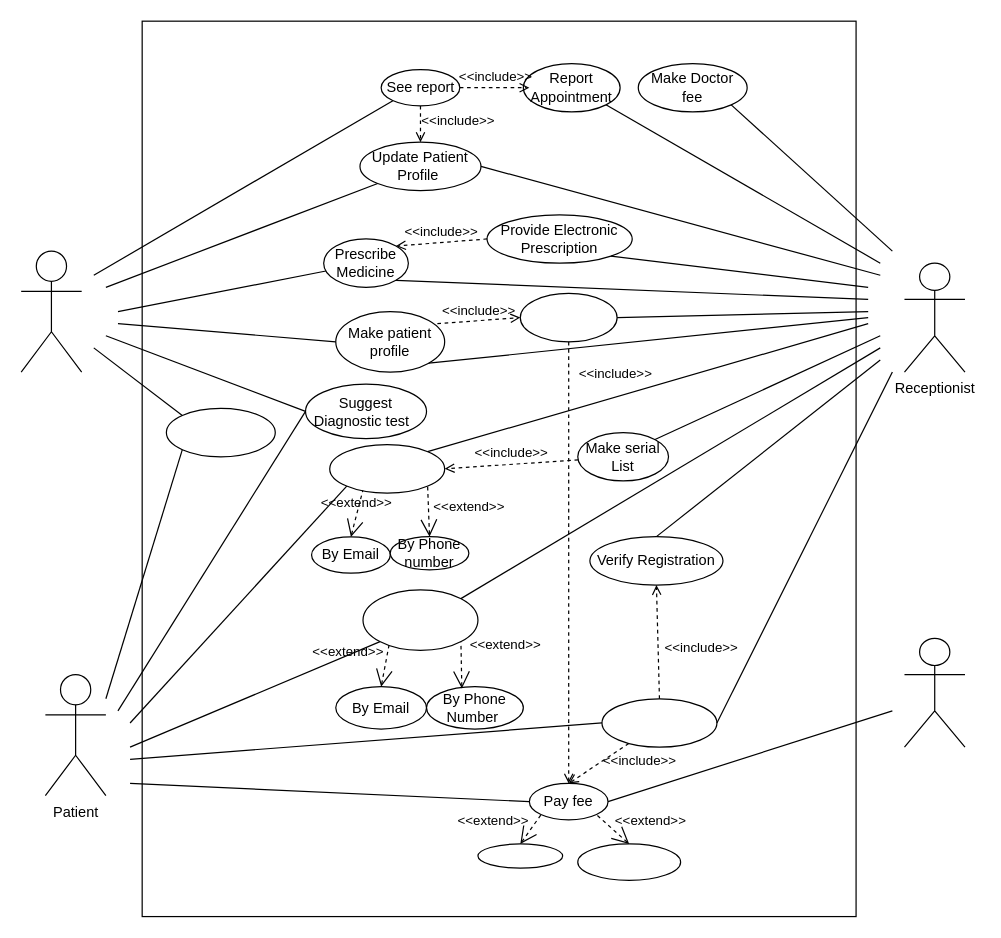
The diagram is 1001 pixels wide and 938 high, and some of its shapes have lost their labels. The box of each missing label's shape, as (x1, y1, x2, y2) in pixels:
Ask for Appointment: (329, 443, 445, 493)
Billing System: (903, 637, 965, 747)
By Cash: (477, 843, 563, 868)
By credit card: (577, 843, 681, 880)
Confirm Appoinment: (601, 698, 717, 747)
Doctor: (20, 250, 82, 372)
Notify patient with serial number: (362, 589, 478, 650)
Prefer admit into Hospital: (165, 407, 275, 457)
Register new patient: (519, 292, 617, 342)
